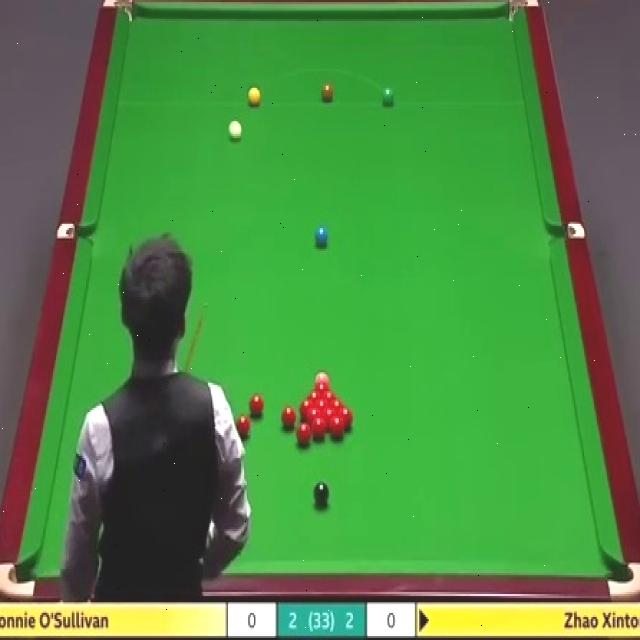black-ball: (312, 480, 328, 505)
blue-ball: (314, 227, 329, 244)
brown-ball: (321, 84, 333, 103)
green-ball: (380, 84, 396, 107)
pink-ball: (315, 372, 330, 387)
red-ball: (295, 421, 314, 444), (281, 404, 296, 430), (336, 406, 352, 428), (314, 415, 329, 438), (329, 419, 344, 442), (235, 414, 250, 437), (248, 394, 264, 415), (323, 408, 337, 429), (301, 398, 313, 411), (316, 400, 327, 412), (316, 384, 326, 396)
white-ball: (228, 120, 242, 140)
yellow-ball: (248, 86, 261, 107)
